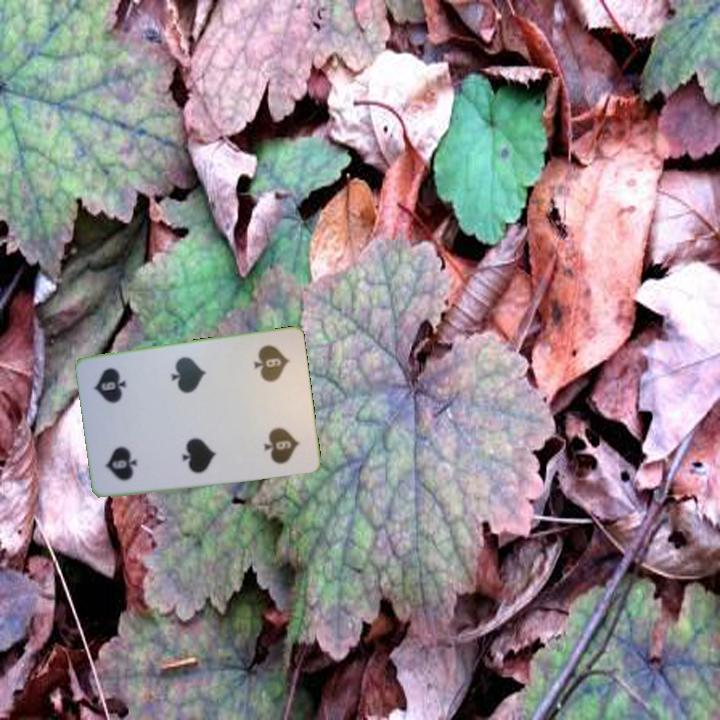s_6.png: (93, 417, 159, 491), (237, 336, 302, 410)
